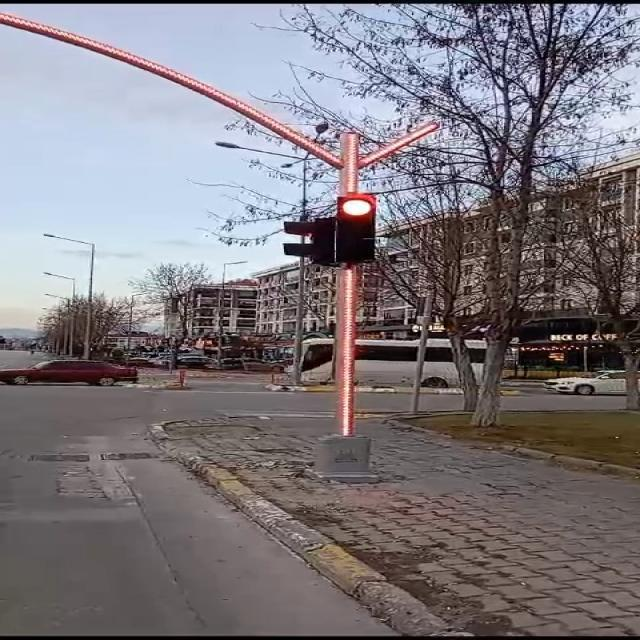kirmizi: (336, 194, 375, 265)
